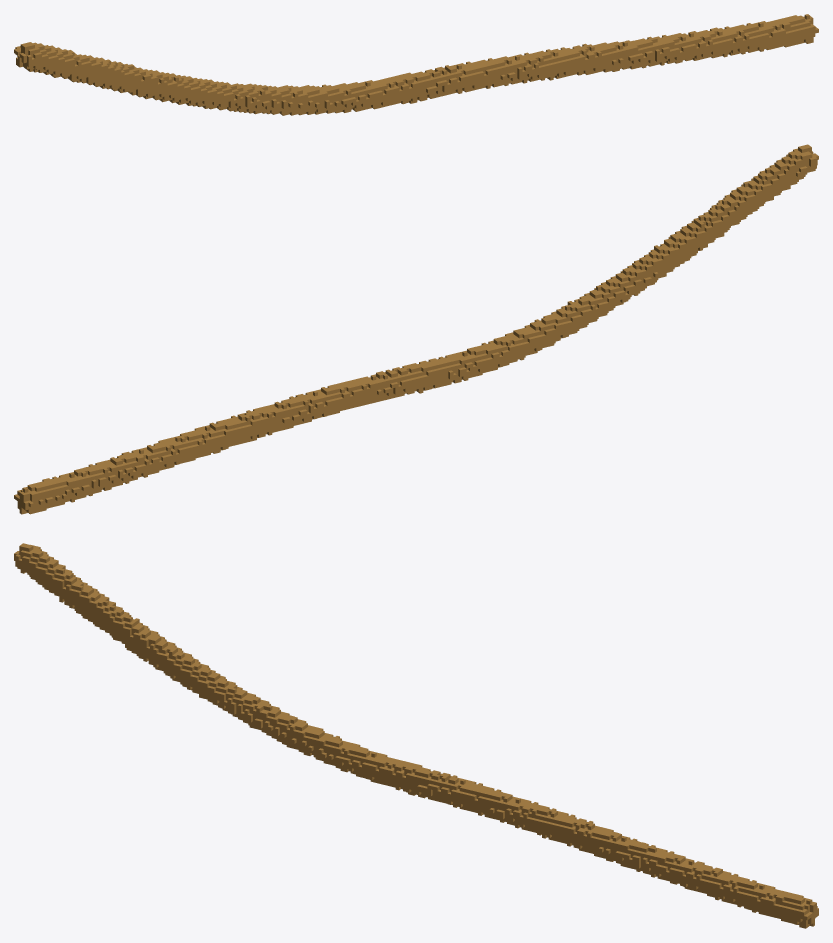
The model's file is Rope.obj.
The picture shows the model from 3 angles, top to bottom: view 1: azimuth 30°, elevation 25°; view 2: azimuth 210°, elevation 25°; view 3: azimuth 330°, elevation 25°; orthographic projection.
Visible parts, largest first — view 1: rope_238x52x10; view 2: rope_238x52x10; view 3: rope_238x52x10.
Boxes of the visible parts, x1,y1,x2,y2 form: rope_238x52x10: (14,14,818,115); rope_238x52x10: (14,144,818,514); rope_238x52x10: (14,543,818,928).
Size of the model in its own units: 8.72 by 1.9 by 0.3662.
